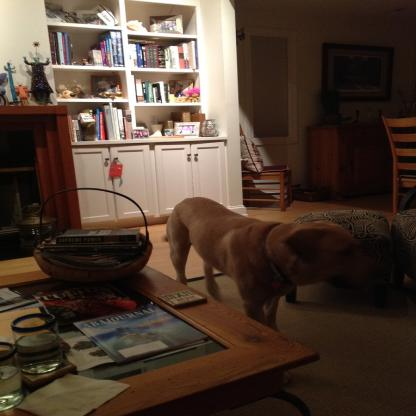book: (71, 304, 212, 367), (33, 276, 155, 330), (38, 224, 144, 272), (70, 100, 133, 140), (125, 76, 206, 105), (129, 37, 198, 71), (157, 108, 208, 138), (91, 31, 123, 67), (52, 29, 78, 66)
